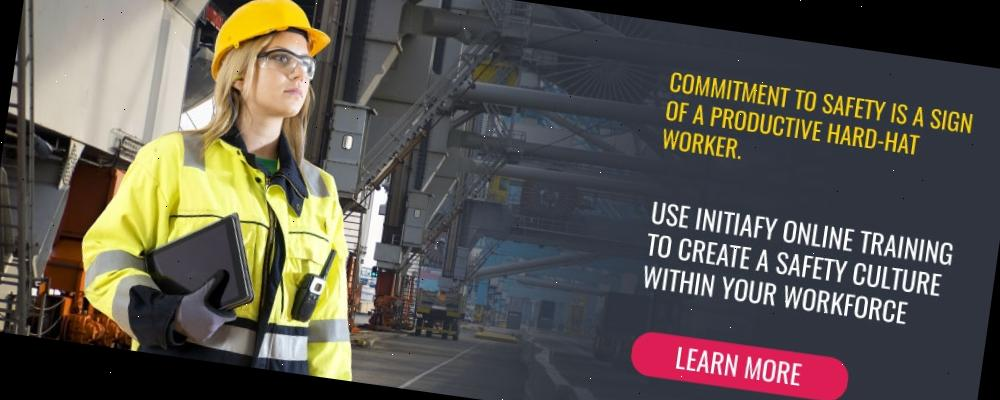helmet: (207, 0, 335, 91)
wear: (74, 120, 378, 380)
